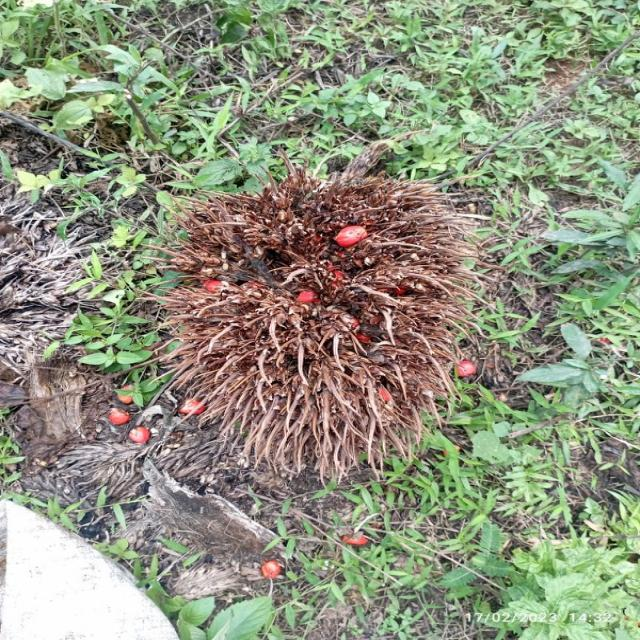fraksi 4: (142, 127, 512, 543)
